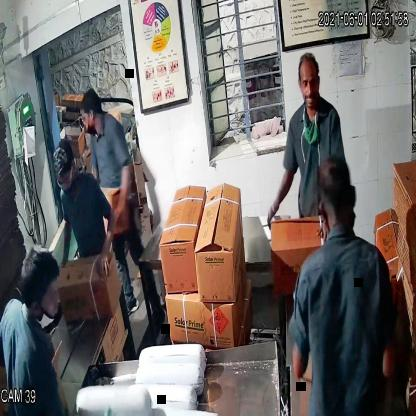goggles: (53, 168, 77, 194)
no_goggles: (297, 72, 323, 92)
